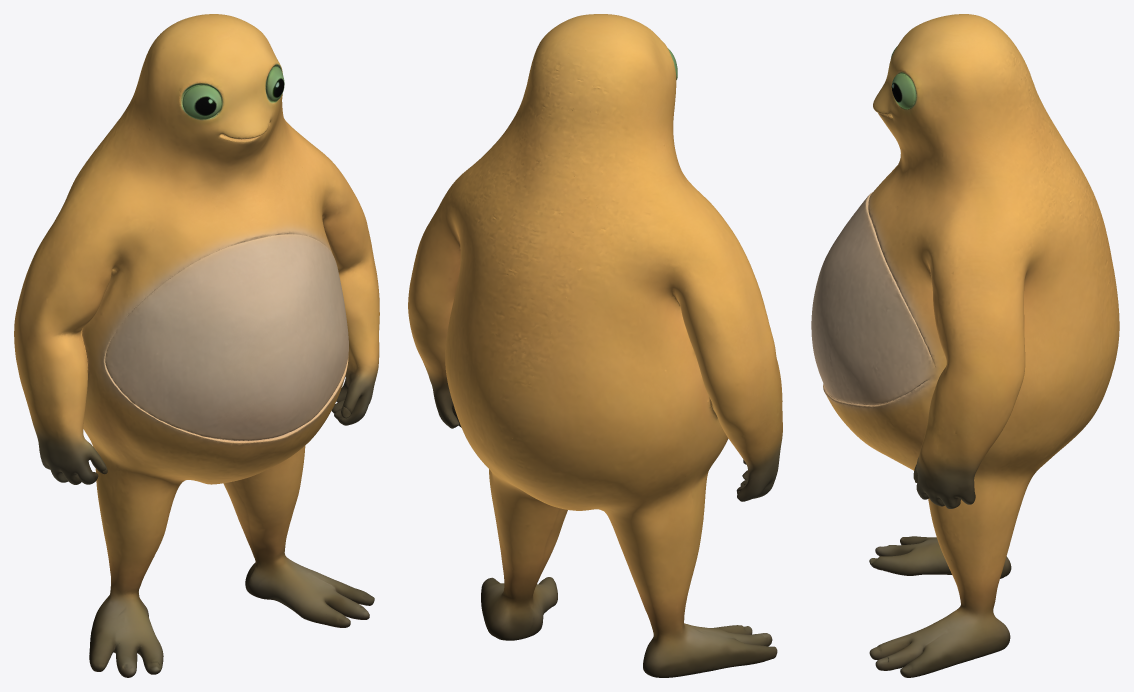
The model's file is naiwa.glb.
The picture shows the model from 3 angles, left to right: view 1: azimuth 30°, elevation 25°; view 2: azimuth 150°, elevation 25°; view 3: azimuth 270°, elevation 25°; orthographic projection. The views are drawn at different scales.
Parts seen in each view (by area): view 1: Naiwa_Rodin_Complete; view 2: Naiwa_Rodin_Complete; view 3: Naiwa_Rodin_Complete.
Part boxes in pixels (x1,y1,x2,y2): Naiwa_Rodin_Complete: [14, 14, 379, 677]; Naiwa_Rodin_Complete: [408, 14, 782, 677]; Naiwa_Rodin_Complete: [811, 14, 1119, 677].
Size of the model in its own units: 1.15 by 1.9 by 0.8939.
Materials: 1 (1 with a texture image).
